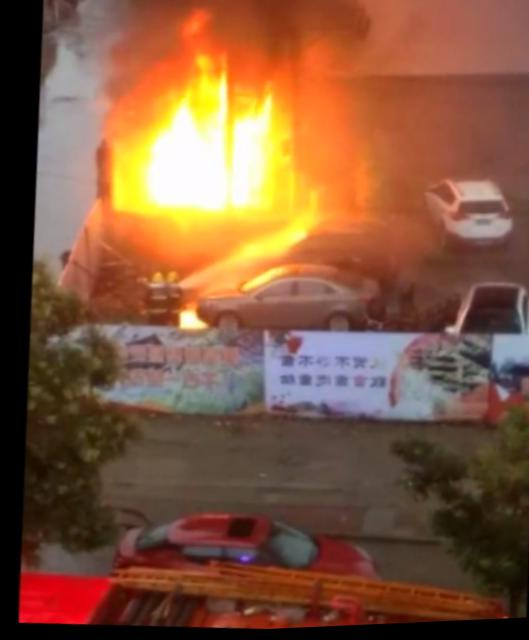fire: (106, 85, 190, 223), (179, 48, 233, 227), (225, 75, 287, 224)
